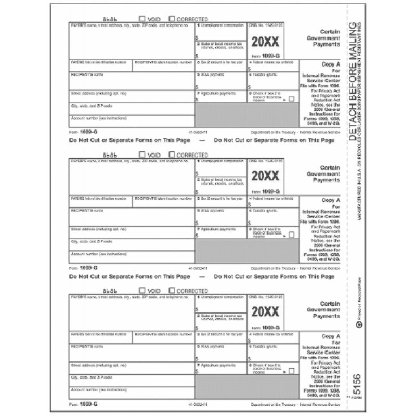checkbox: (137, 149, 147, 159), (138, 285, 147, 295), (167, 285, 176, 295), (167, 149, 176, 159), (287, 229, 296, 239), (287, 366, 296, 376), (287, 94, 296, 103), (137, 15, 147, 22), (167, 15, 176, 22)
textbox: (68, 21, 197, 61), (68, 157, 197, 197), (68, 293, 197, 333), (67, 206, 197, 229), (67, 342, 197, 365), (67, 69, 197, 92), (67, 100, 197, 116), (67, 249, 197, 265), (67, 360, 197, 376), (67, 88, 196, 104), (68, 112, 197, 128), (68, 224, 197, 240), (68, 237, 197, 253), (68, 372, 197, 388), (67, 385, 196, 401), (193, 310, 249, 334), (192, 156, 250, 179), (192, 38, 250, 61), (192, 70, 250, 93), (193, 342, 250, 365), (193, 205, 250, 228), (193, 176, 250, 199), (193, 20, 250, 43), (244, 70, 301, 93), (244, 206, 301, 228), (194, 293, 249, 315), (244, 341, 301, 362), (68, 193, 135, 209), (245, 192, 301, 210), (67, 58, 134, 73), (130, 58, 197, 73), (131, 194, 198, 209), (67, 330, 134, 345), (129, 330, 196, 345), (192, 329, 249, 346), (192, 193, 249, 210), (193, 223, 249, 240), (193, 56, 249, 73), (245, 56, 301, 73), (193, 88, 249, 105), (193, 360, 250, 376), (245, 329, 301, 345)
